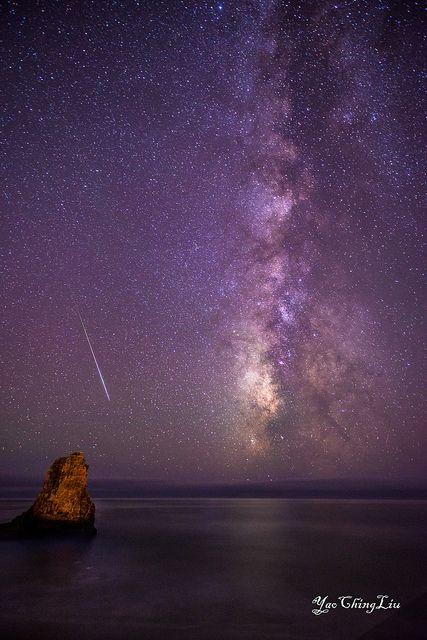meteor: (100, 386, 116, 403)
